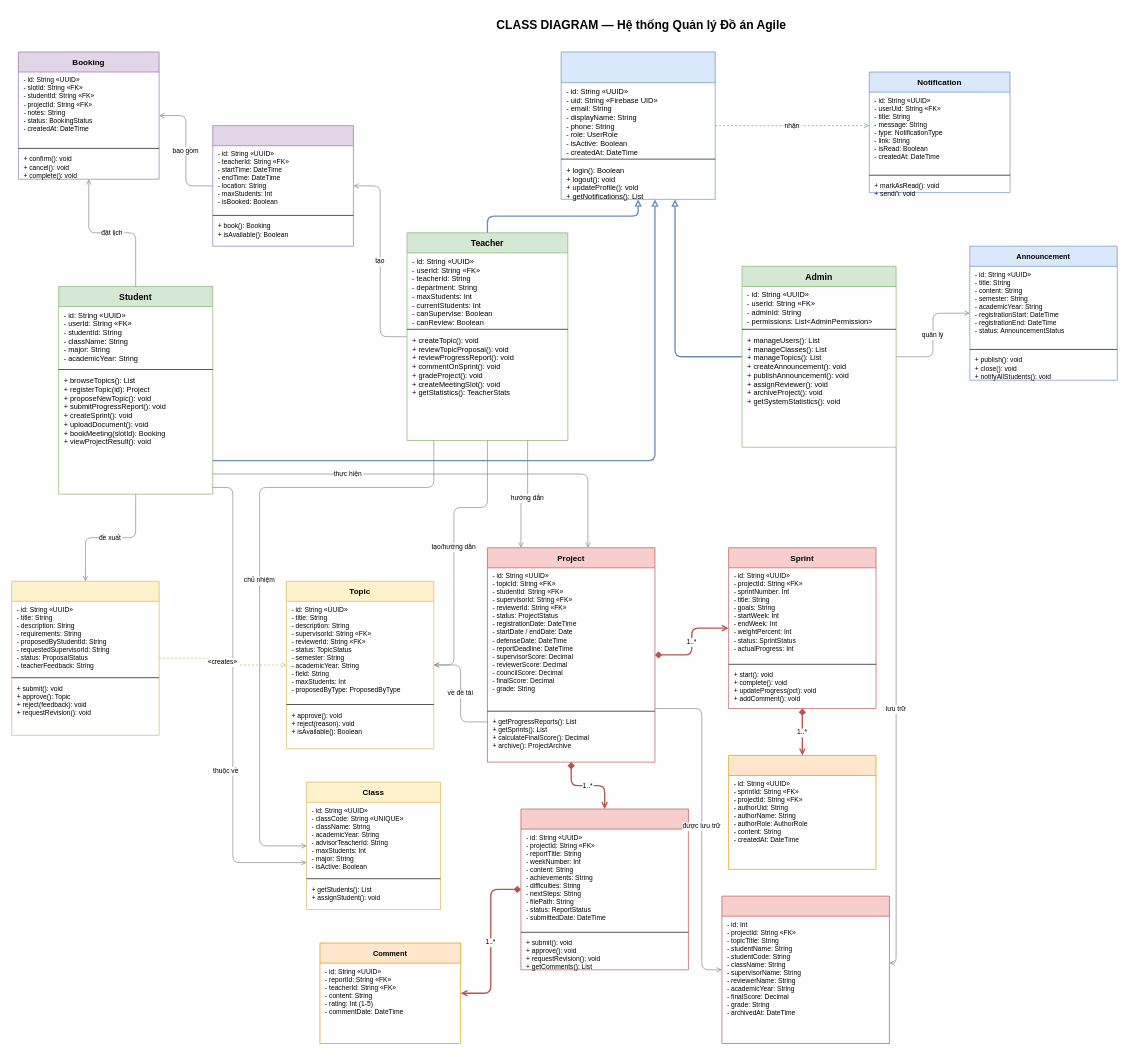
Image size: 1129x1057. Some labels were removed from this diagram. The shapes that lost their labels are listed below. From the top down, each one's box as (x1, y1, x2, y2) in pixels, then its label:
(560, 51, 715, 199): «abstract» User
(212, 125, 353, 246): MeetingSlot
(11, 581, 159, 735): TopicProposal
(728, 755, 876, 869): SprintComment
(520, 808, 688, 970): ProgressReport
(721, 895, 889, 1044): ProjectArchive
